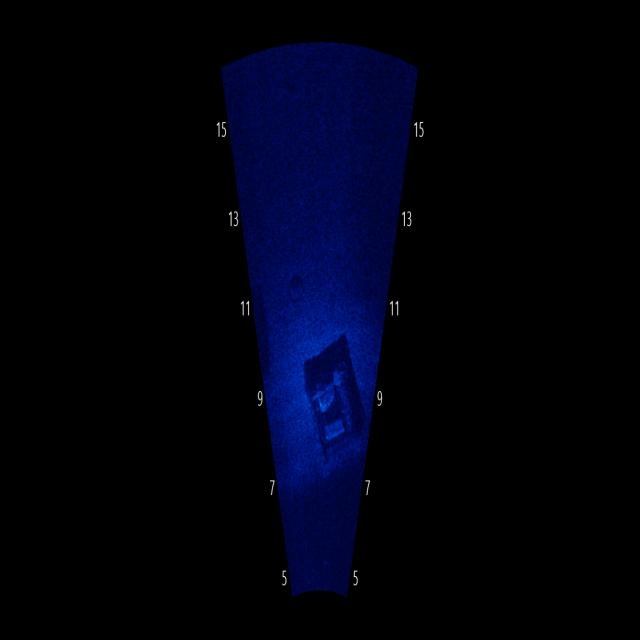square: (297, 359, 365, 475)
